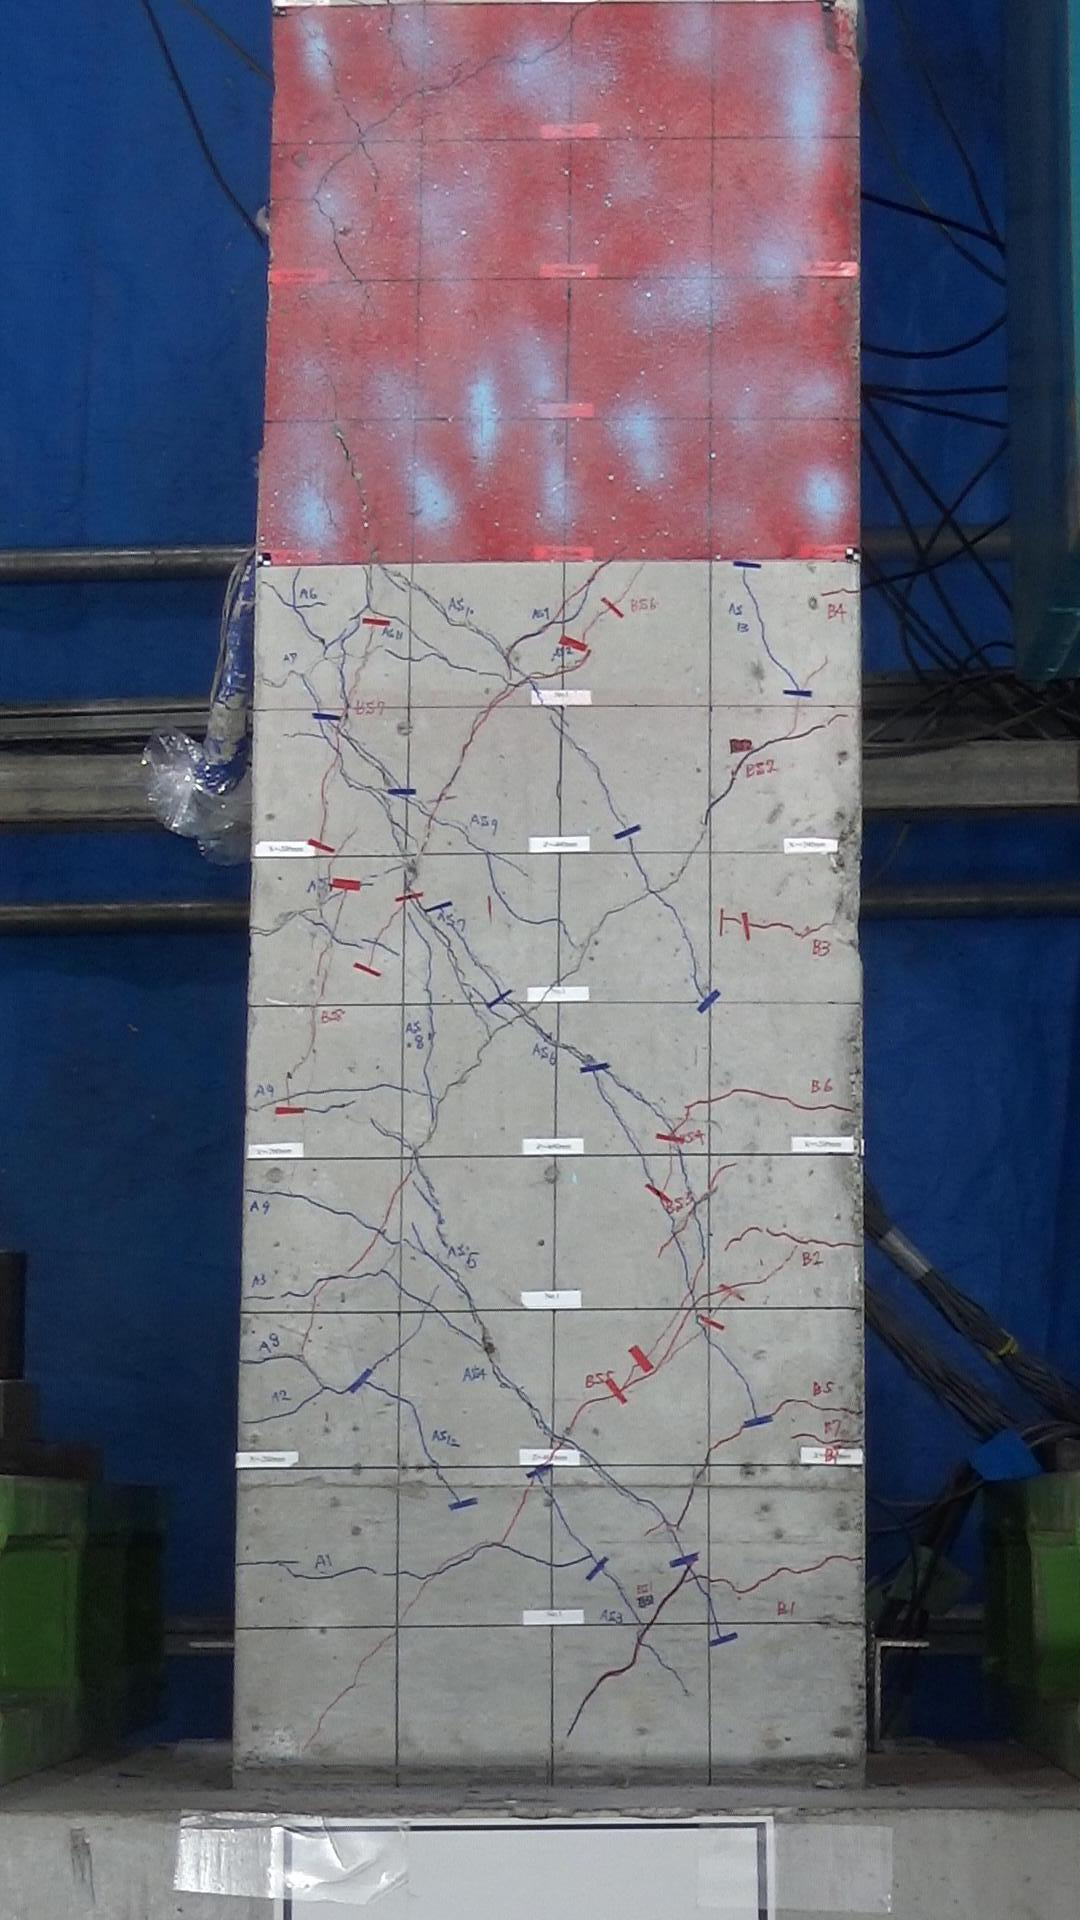Bond Crack: (310, 789, 338, 841), (274, 1062, 303, 1104), (624, 839, 651, 881), (419, 1029, 444, 1075), (736, 1382, 765, 1420), (419, 992, 446, 1031), (311, 961, 331, 1009), (479, 856, 502, 895), (295, 1313, 319, 1353), (741, 567, 760, 617), (330, 891, 348, 938), (760, 628, 781, 667), (786, 690, 804, 735), (303, 1011, 320, 1058), (688, 951, 705, 996), (422, 1072, 438, 1117), (678, 1153, 694, 1197), (430, 1213, 451, 1246), (320, 756, 339, 791), (659, 1150, 674, 1195), (422, 953, 439, 989), (349, 659, 365, 698), (361, 568, 375, 611), (360, 625, 377, 653), (365, 945, 381, 969)
Flexure Crack: (773, 915, 829, 942), (294, 1195, 359, 1217), (255, 669, 309, 695), (775, 1092, 819, 1120), (688, 1088, 732, 1116), (506, 1549, 553, 1575), (731, 1081, 774, 1108), (243, 1411, 302, 1429), (237, 1555, 301, 1571), (307, 1567, 349, 1588), (816, 582, 858, 603), (392, 647, 434, 667), (516, 913, 560, 931), (752, 732, 786, 756), (253, 1185, 295, 1204), (819, 1097, 857, 1117), (257, 916, 289, 940), (247, 1353, 297, 1367), (264, 582, 289, 611), (305, 1102, 349, 1118), (365, 1567, 410, 1582), (287, 727, 324, 745), (310, 1085, 352, 1101), (396, 1081, 425, 1102), (386, 1174, 410, 1199), (247, 1294, 309, 1303), (556, 1557, 592, 1571), (380, 1199, 393, 1229), (360, 1081, 388, 1095)
Shear Crack: (496, 1370, 549, 1432), (400, 571, 440, 615), (303, 1701, 338, 1753), (566, 1687, 596, 1745), (368, 1335, 401, 1385), (661, 1659, 698, 1701), (657, 897, 690, 943), (501, 1495, 530, 1545), (431, 1551, 483, 1578), (348, 738, 385, 775), (632, 1085, 669, 1122), (545, 717, 584, 752), (462, 618, 500, 653), (699, 785, 732, 824), (556, 1513, 589, 1552), (372, 1116, 406, 1153), (597, 1565, 626, 1609), (385, 1270, 422, 1303), (617, 564, 651, 599), (431, 1466, 462, 1505), (410, 1418, 434, 1466), (592, 1077, 617, 1124), (682, 829, 707, 876), (463, 709, 495, 745), (765, 1246, 796, 1282), (418, 1158, 440, 1207), (582, 909, 611, 945), (438, 818, 476, 845), (524, 1015, 556, 1047), (562, 1042, 601, 1068), (636, 1493, 669, 1524), (709, 1425, 749, 1452), (401, 1311, 425, 1354), (376, 905, 404, 942), (617, 1125, 644, 1163), (673, 1329, 705, 1360), (365, 1631, 400, 1660), (295, 613, 324, 647), (471, 1308, 493, 1352), (382, 829, 413, 861), (339, 1663, 365, 1698), (446, 748, 471, 785), (400, 1592, 425, 1629), (560, 945, 585, 982), (611, 890, 651, 913), (455, 935, 483, 968), (518, 618, 553, 645), (465, 1001, 491, 1036), (603, 1662, 640, 1685), (464, 1044, 488, 1080), (352, 1237, 380, 1267), (596, 1465, 626, 1493), (589, 761, 611, 800), (717, 1352, 746, 1379), (439, 1075, 465, 1104), (295, 1387, 326, 1412), (607, 803, 630, 835), (367, 1383, 400, 1406), (402, 791, 429, 819), (439, 1311, 465, 1338), (563, 1437, 592, 1462), (489, 682, 520, 705), (479, 963, 502, 992), (553, 587, 584, 608), (423, 1245, 444, 1276), (436, 909, 462, 935), (452, 1269, 469, 1305), (731, 753, 752, 782), (417, 1124, 436, 1154), (588, 560, 612, 585), (641, 1639, 666, 1663), (436, 781, 454, 815), (669, 1532, 690, 1560), (566, 1400, 585, 1429), (644, 1329, 663, 1358), (698, 1187, 720, 1211), (731, 1273, 764, 1288), (580, 615, 597, 645), (688, 1466, 707, 1494), (661, 1582, 684, 1604), (709, 1298, 735, 1317), (678, 1497, 692, 1528), (483, 1352, 500, 1377), (659, 1232, 674, 1261), (665, 1309, 680, 1333), (646, 1604, 665, 1623), (629, 1606, 644, 1625)
